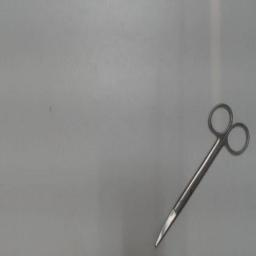Curved Mayo Scissors: (152, 100, 252, 252)
